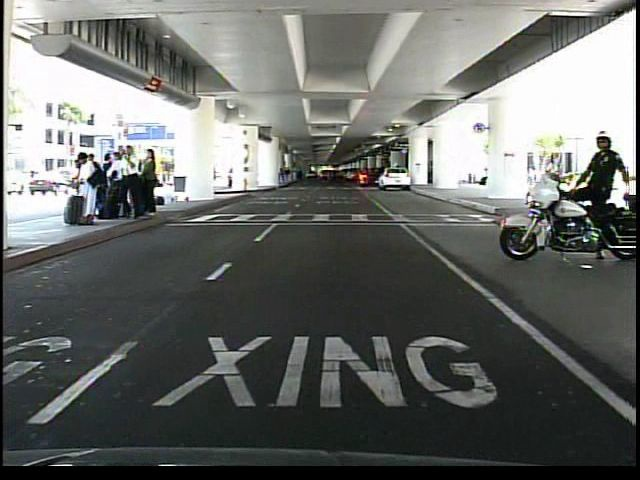person: (572, 128, 627, 264), (479, 161, 492, 192)
